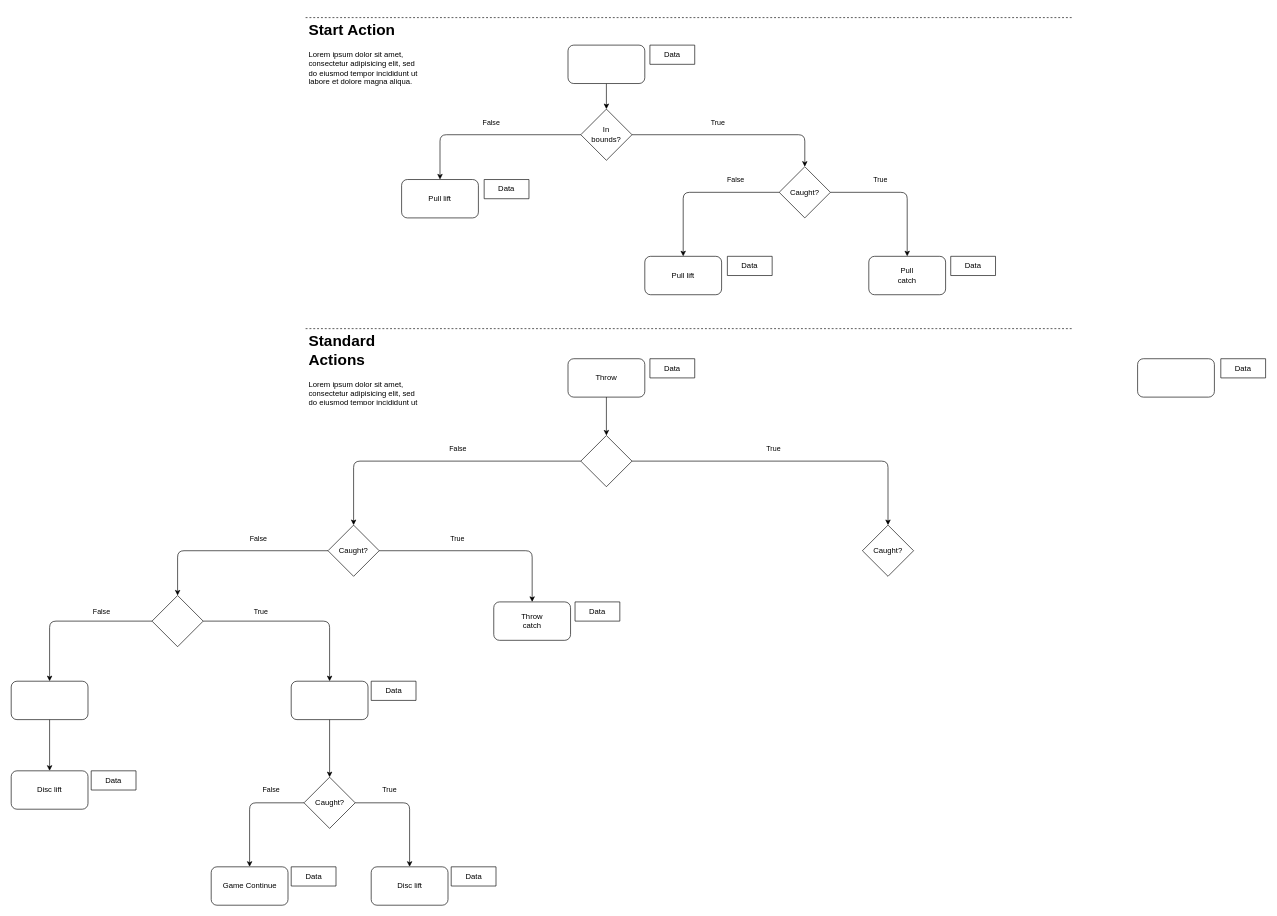
Some shapes in this 1277 by 916 pixel diagram are drawn without their labels. Each missing label, with the centre of its shape:
"Active turnover" belongs at [329,700].
"Call?" belongs at [606,461].
"Defense?" belongs at [177,621].
"Passive turnover" belongs at [49,700].
"Stall Out" belongs at [1175,377].
"The Pull" belongs at [606,64].
